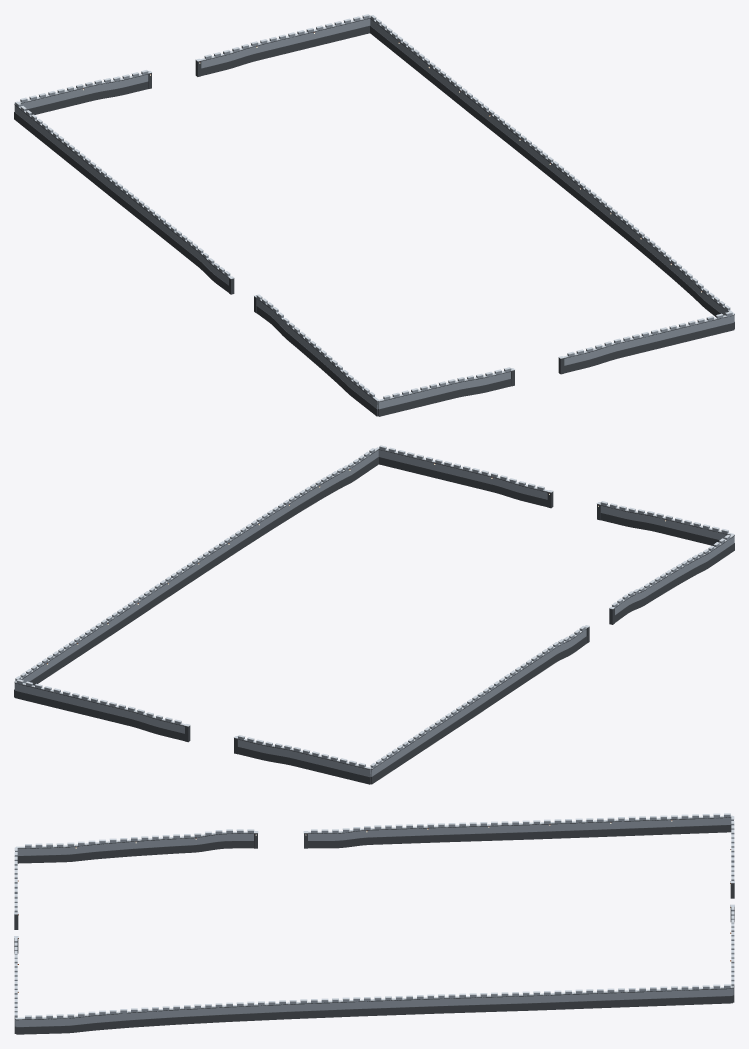
File: DepotWall_-2_-2.fbx
3 views of the same model, one above another, from view 1: azimuth 30°, elevation 25°; view 2: azimuth 150°, elevation 25°; view 3: azimuth 270°, elevation 25° (orthographic).
Parts seen in each view (by area): view 1: DepotWall_-2_-2; view 2: DepotWall_-2_-2; view 3: DepotWall_-2_-2.
Boxes of the visible parts, bbox=[...] form: DepotWall_-2_-2: bbox=[14, 14, 734, 416]; DepotWall_-2_-2: bbox=[14, 445, 734, 784]; DepotWall_-2_-2: bbox=[14, 813, 734, 1034].
Bounding box in the file's own units: 13123 × 1801 × 23146.
